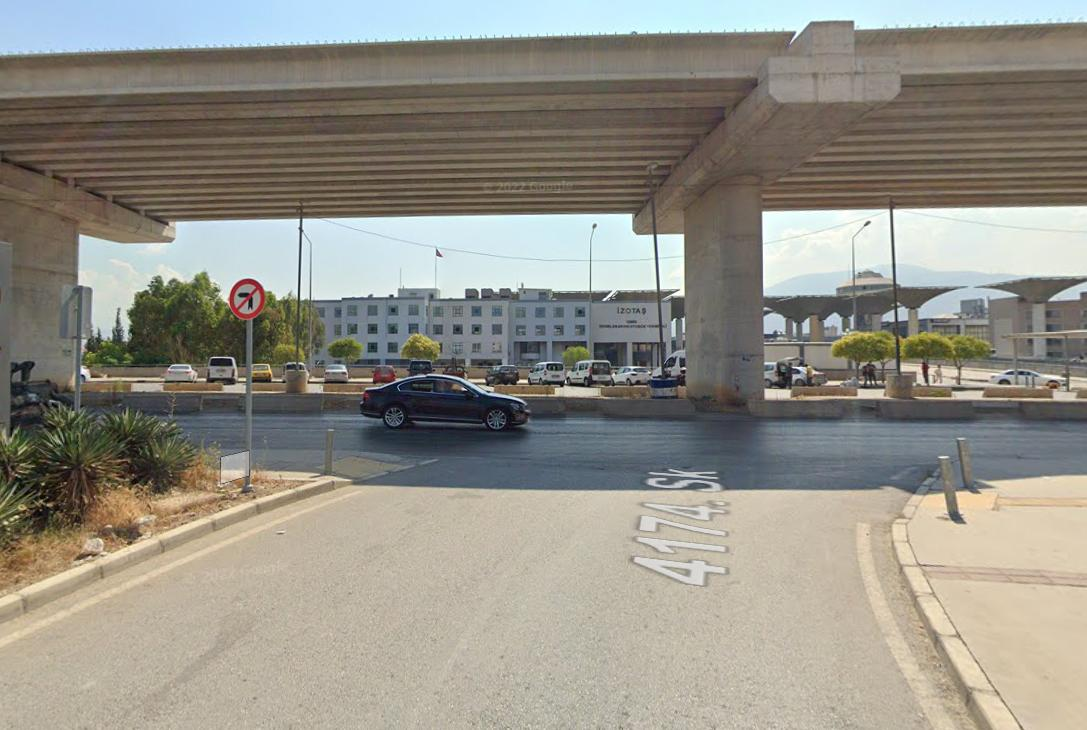leftturnsareforbidden: (226, 276, 267, 318)
